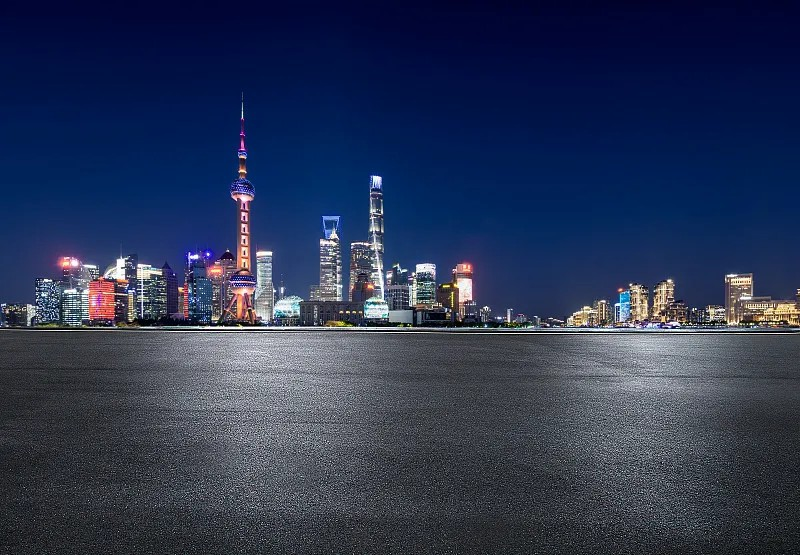Oriental: (217, 89, 256, 323)
